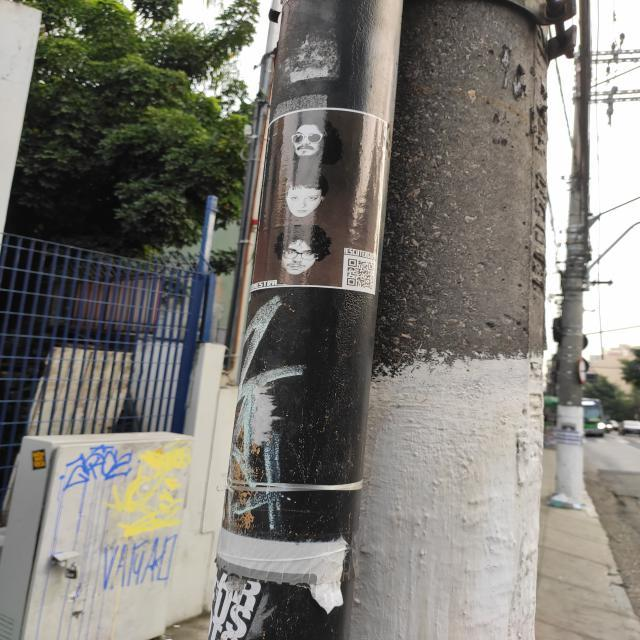qrcode: (348, 260, 375, 291)
